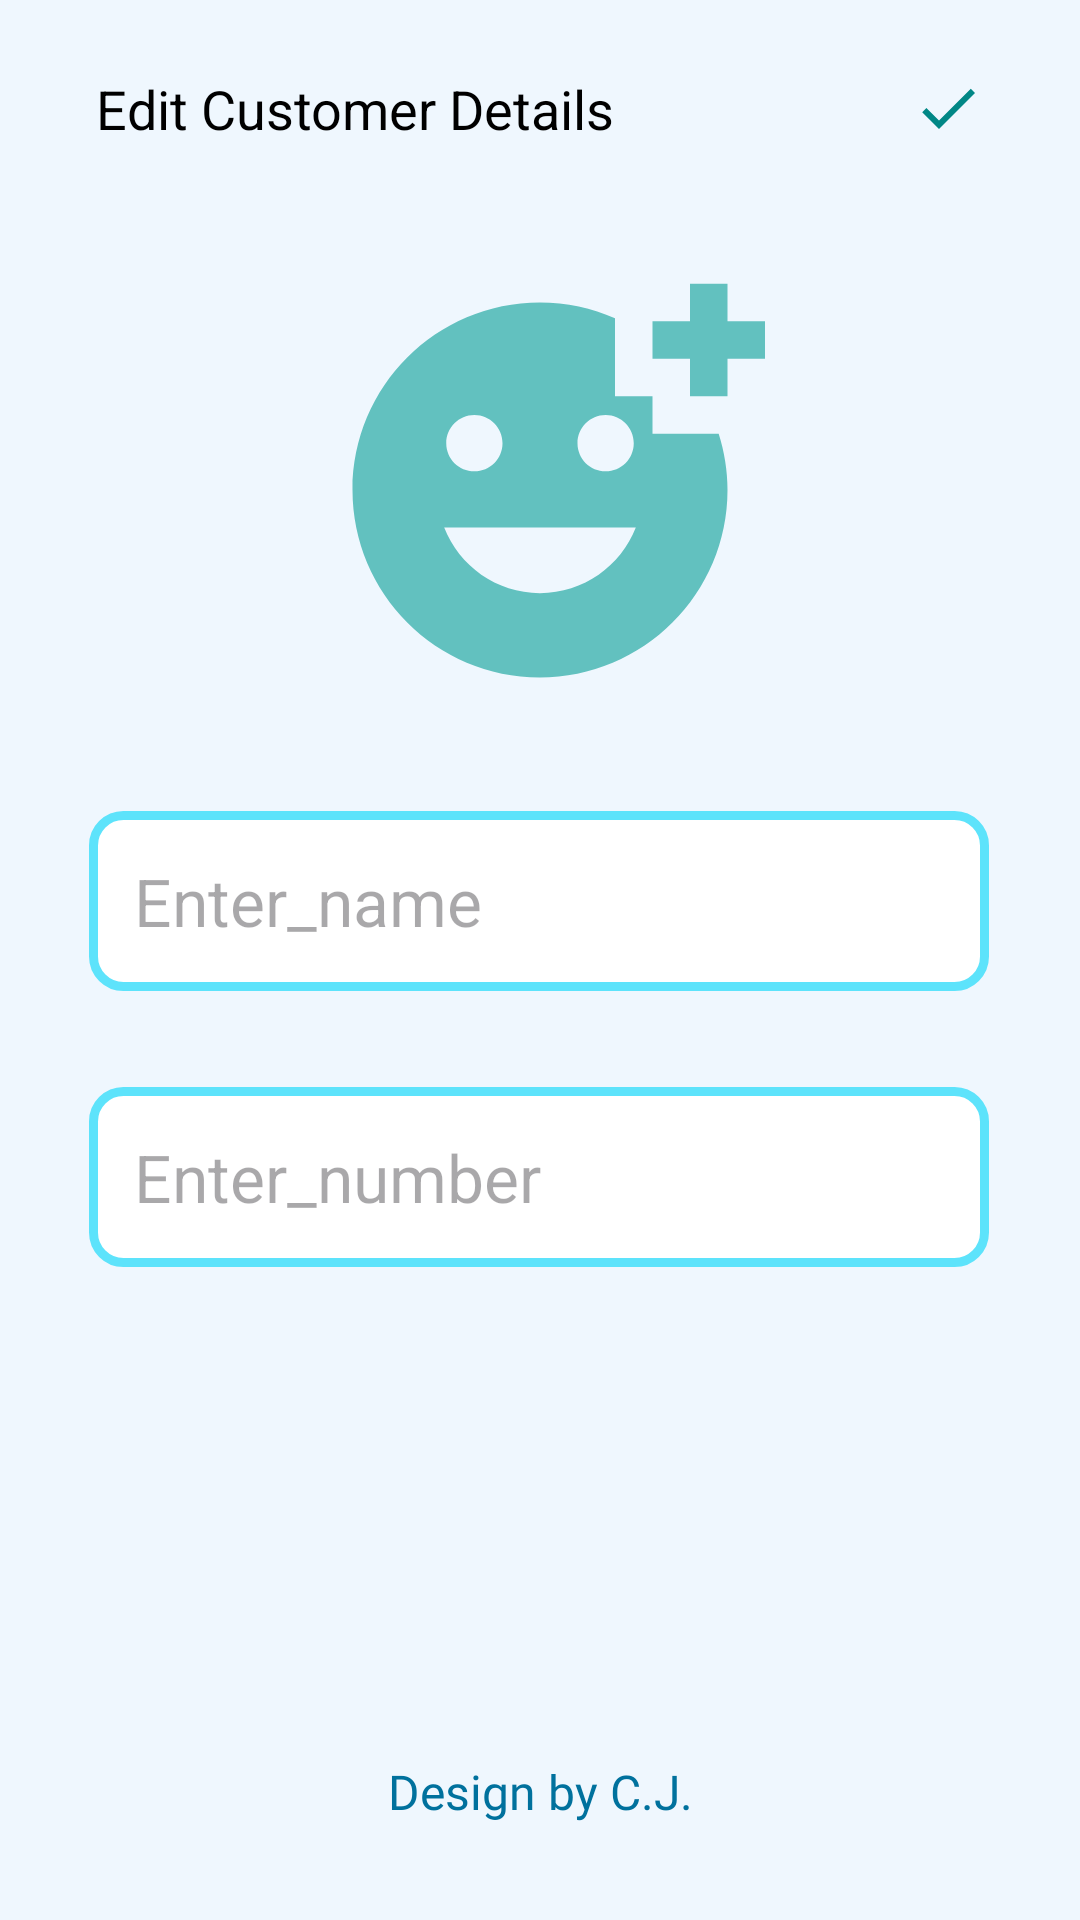

Locate icon controls on the screen. Image size 1080 × 1920, boxes as (x1=x1, y1=y1, x2=x2, y2=y2).
done: (x1=922, y1=89, x2=975, y2=129)
